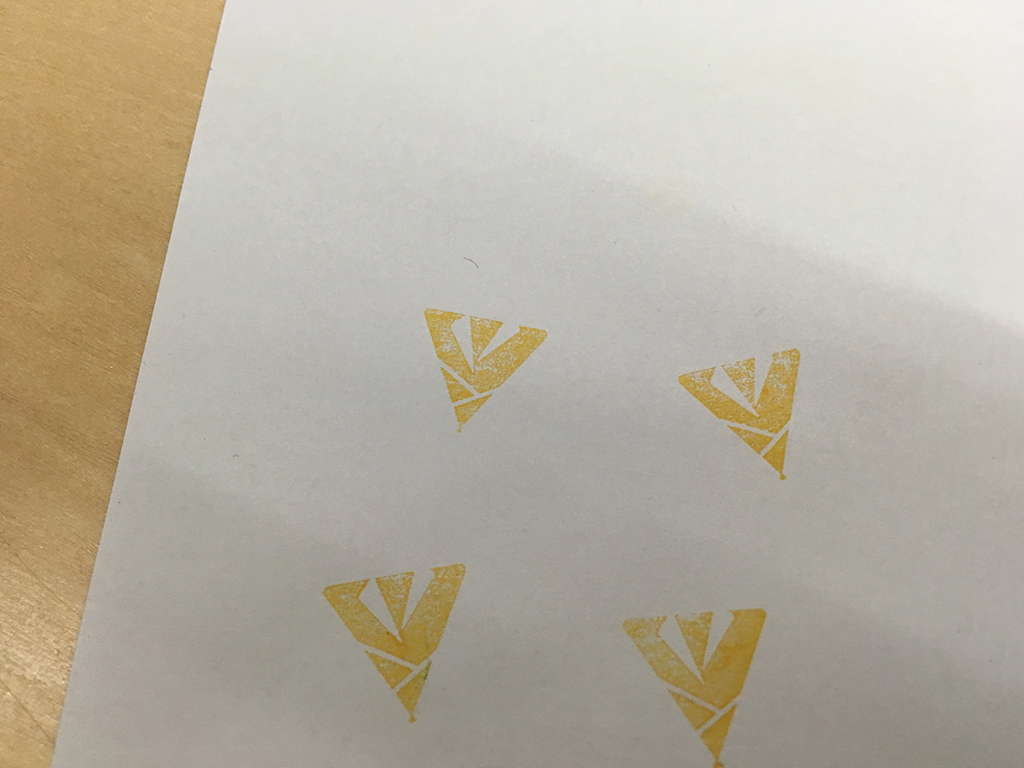tent: (317, 562, 474, 729), (617, 602, 773, 768), (663, 340, 809, 489), (416, 302, 553, 446)
